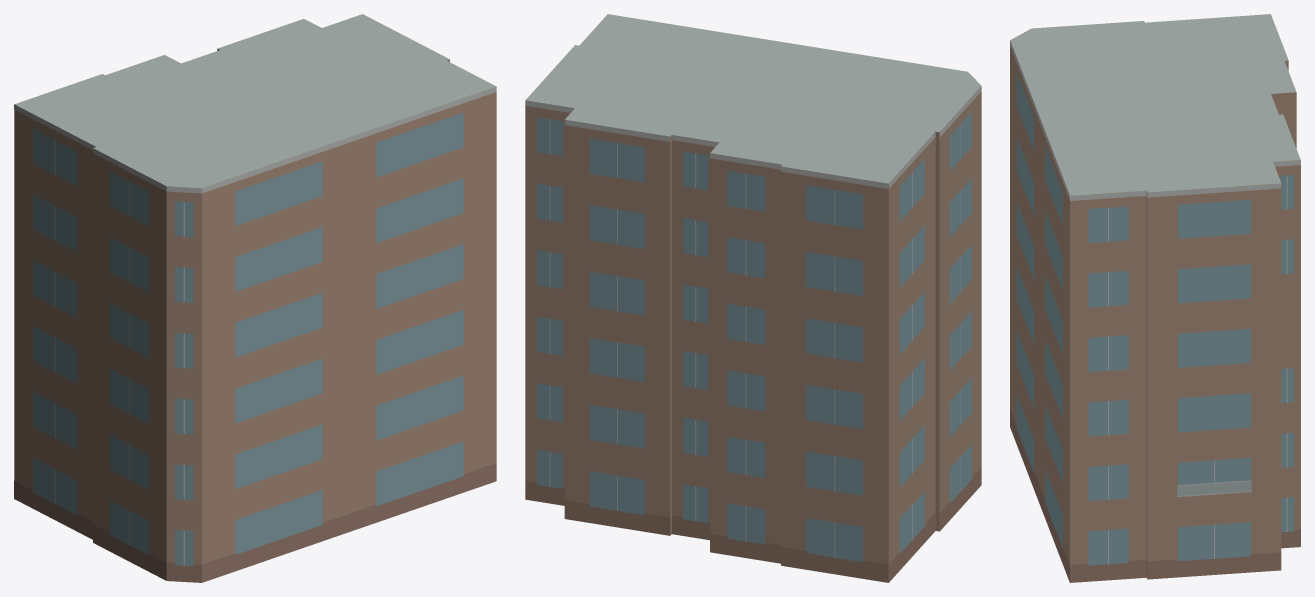
Rendered from survey-upis-33013472.glb.
3 renders of one model, left to right at view 1: azimuth 30°, elevation 25°; view 2: azimuth 150°, elevation 25°; view 3: azimuth 270°, elevation 25°, orthographic. The views are drawn at different scales.
Parts seen in each view (by area): view 1: survey-upis-33013472.tmp; view 2: survey-upis-33013472.tmp; view 3: survey-upis-33013472.tmp.
Boxes of the visible parts, left/top/right/bottom form: survey-upis-33013472.tmp: left=14, top=14, right=496, bottom=582; survey-upis-33013472.tmp: left=525, top=14, right=981, bottom=582; survey-upis-33013472.tmp: left=1010, top=14, right=1300, bottom=582.
Size of the model in its own units: 18.46 by 18.3 by 12.47.
